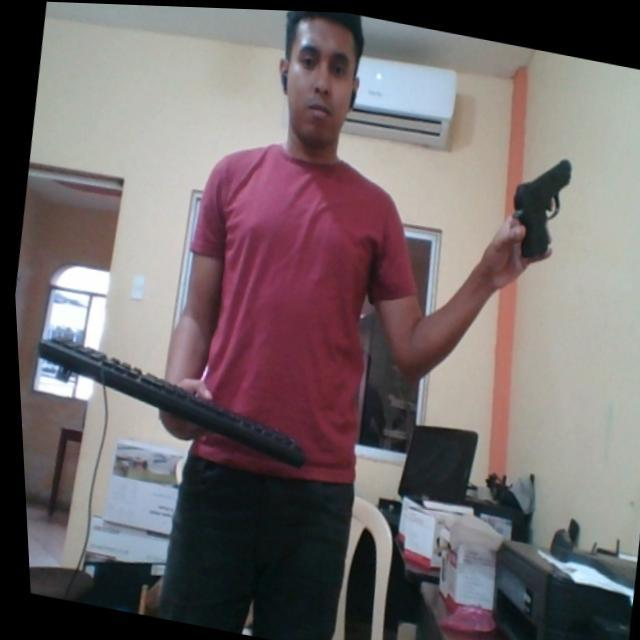weapon: (494, 142, 578, 267)
